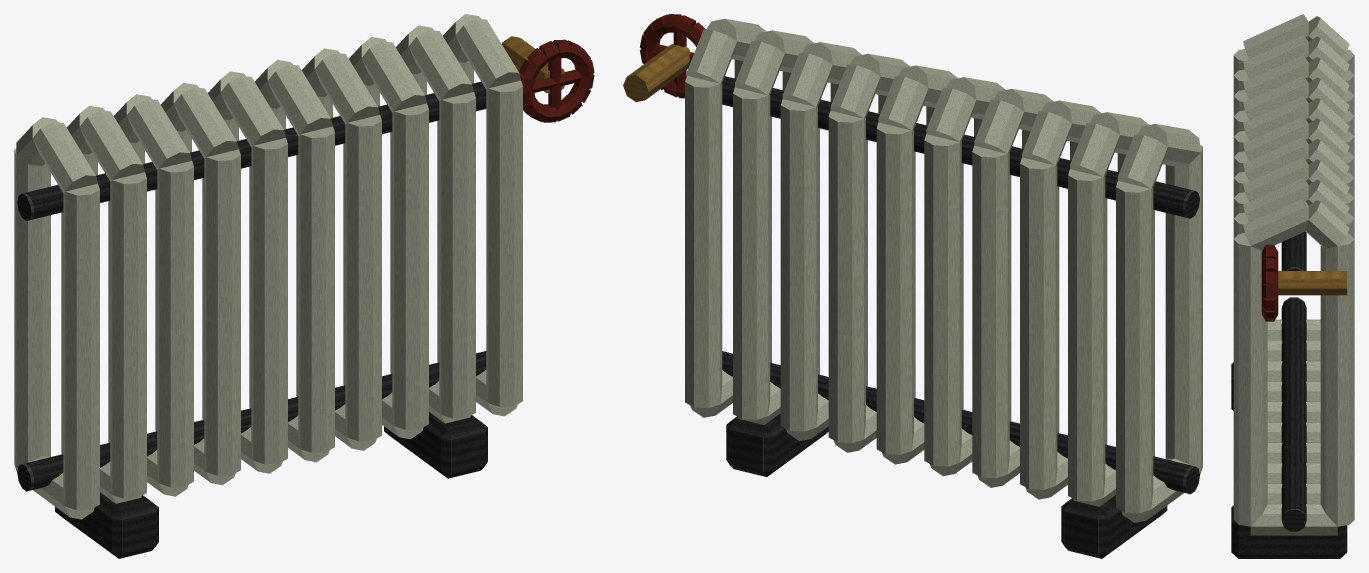
File: level_radiator.glb
3 renders of one model, left to right at view 1: azimuth 30°, elevation 25°; view 2: azimuth 150°, elevation 25°; view 3: azimuth 270°, elevation 25°, orthographic. The views are drawn at different scales.
Parts seen in each view (by area): view 1: level_radiator; view 2: level_radiator; view 3: level_radiator.
Part boxes in pixels (x1,y1,x2,y2): level_radiator: (14, 14, 594, 558); level_radiator: (623, 14, 1202, 558); level_radiator: (1231, 14, 1354, 558).
Bounding box in the file's own units: 1.18 × 0.8513 × 0.255.
Materials: 4 (4 with a texture image).
